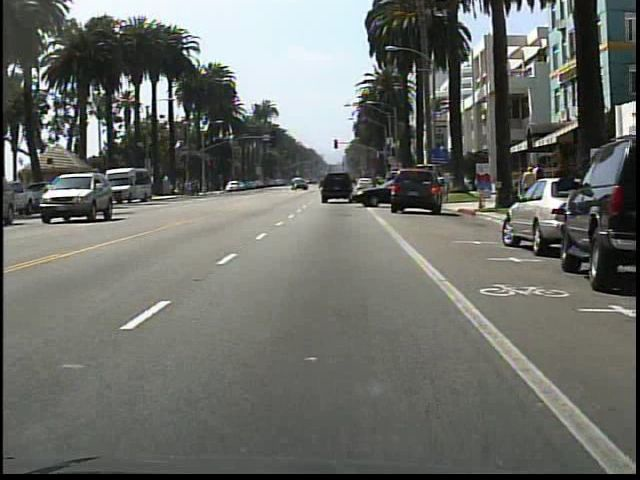person: (369, 170, 386, 204), (534, 161, 547, 203), (520, 163, 535, 193)
